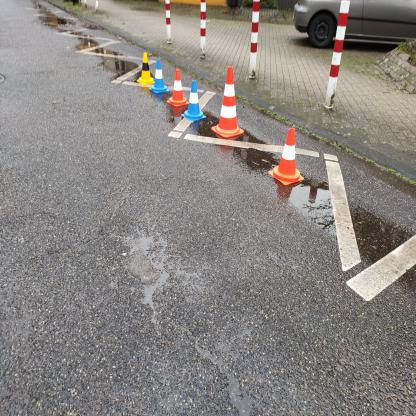Cones_big: (214, 65, 247, 142)
Cones_small_blue: (182, 80, 209, 127), (150, 58, 171, 97)
Cones_small_orange: (266, 127, 308, 188)
Cones_small_yellow: (136, 47, 153, 86)
